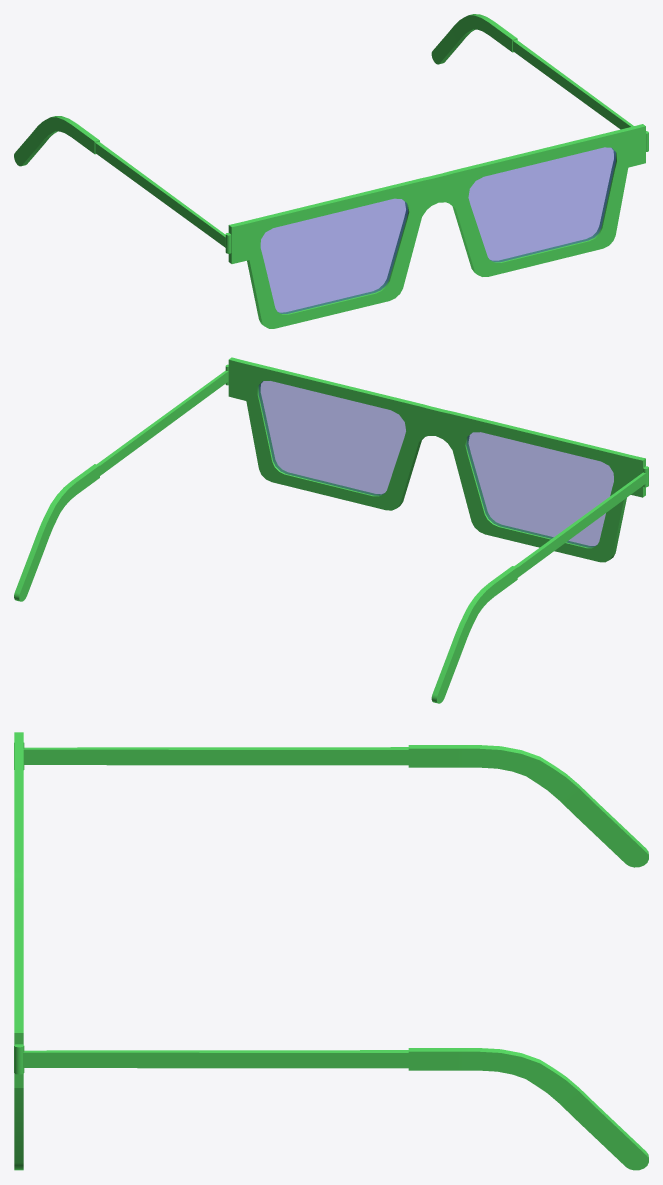
3 renders of one model, top to bottom at view 1: azimuth 30°, elevation 25°; view 2: azimuth 150°, elevation 25°; view 3: azimuth 270°, elevation 25°, orthographic. The views are drawn at different scales.
Visible parts, largest first — view 1: Base, Lens; view 2: Base, Lens; view 3: Base.
Part boxes in pixels (bbox=[...]): Base: bbox=[14, 14, 648, 328]; Lens: bbox=[260, 147, 615, 313]; Base: bbox=[14, 357, 648, 703]; Lens: bbox=[258, 381, 613, 547]; Base: bbox=[14, 732, 648, 1170].
Size of the model in its own units: 2.11 by 0.5343 by 1.84.
